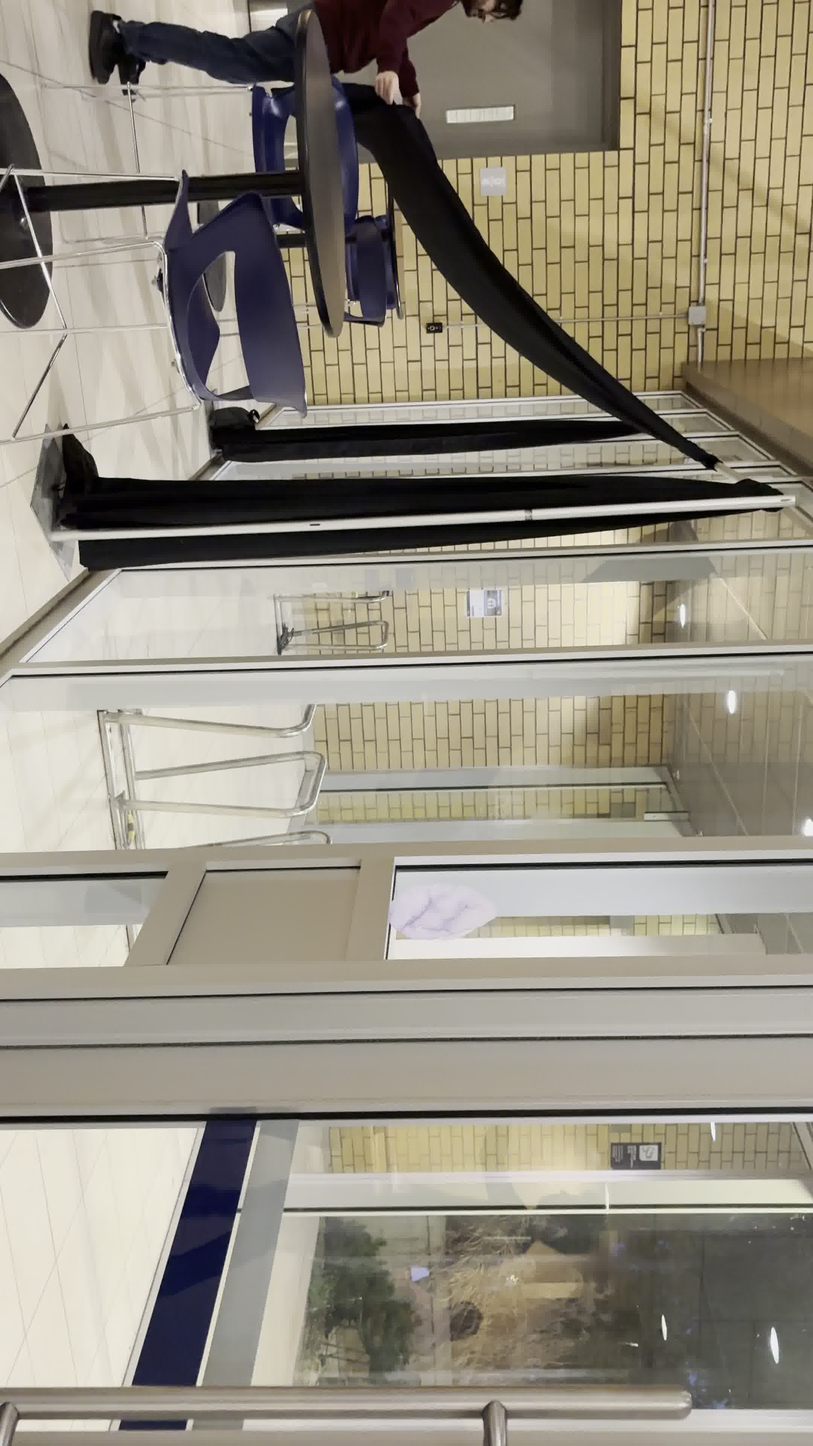Target: (385, 880, 498, 943)
